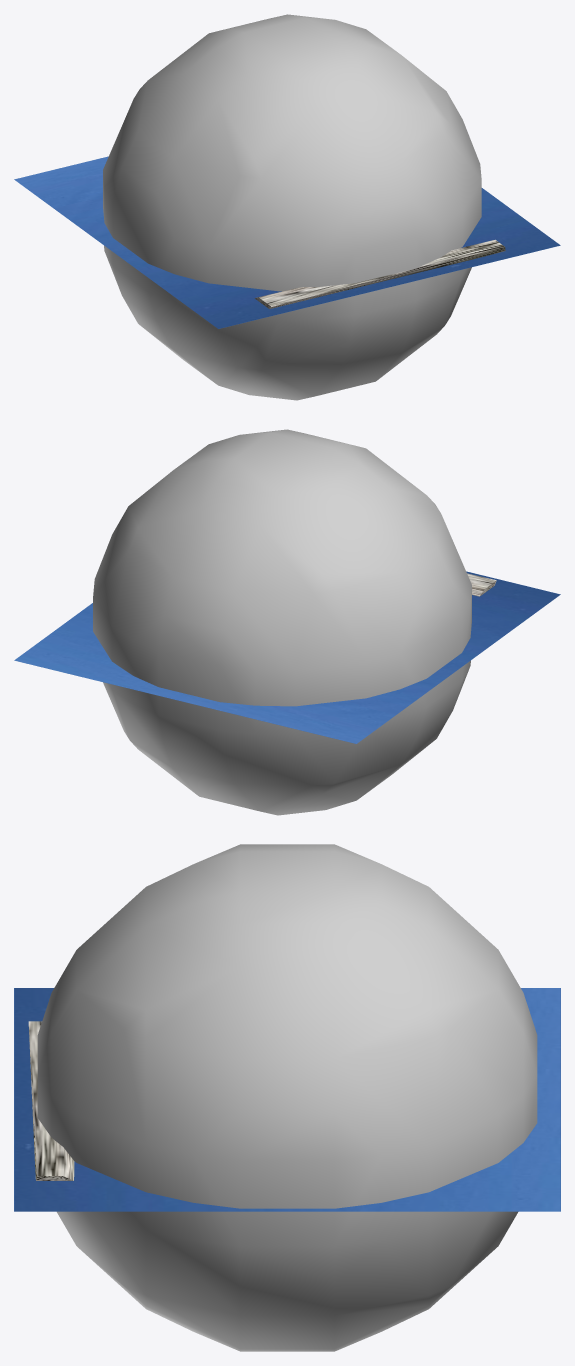
Rendered from BAKA.gltf.
3 renders of one model, top to bottom at view 1: azimuth 30°, elevation 25°; view 2: azimuth 150°, elevation 25°; view 3: azimuth 270°, elevation 25°, orthographic. The views are drawn at different scales.
Visible parts, largest first — view 1: Mball.001, Plane, Cube.002; view 2: Mball.001, Plane; view 3: Mball.001, Plane, Cube.002.
Part boxes in pixels (x1,y1,x2,y2): Mball.001: (103,14,481,400); Plane: (14,156,560,328); Cube.002: (254,239,505,308); Mball.001: (93,429,471,815); Plane: (14,571,560,743); Mball.001: (37,844,537,1351); Plane: (14,988,560,1211); Cube.002: (28,1021,74,1180).
Bounding box in the file's own units: 158 × 150 × 164.
